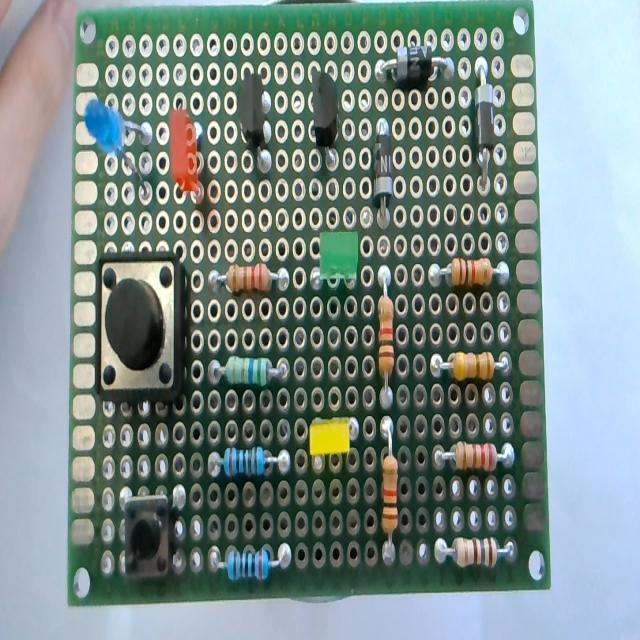diode: (371, 36, 463, 98), (468, 55, 498, 190), (368, 102, 400, 222)
led: (82, 87, 162, 219), (161, 98, 211, 223), (305, 218, 367, 300), (300, 392, 362, 471)
resistor: (200, 239, 294, 313), (197, 332, 291, 404), (212, 534, 294, 606), (202, 432, 292, 489), (438, 523, 518, 582), (436, 423, 520, 479), (438, 249, 518, 299), (438, 338, 510, 393), (374, 428, 402, 552), (373, 274, 401, 397)
switch: (96, 242, 192, 410), (112, 492, 178, 594)
transistor: (226, 54, 275, 188), (302, 51, 342, 183)
